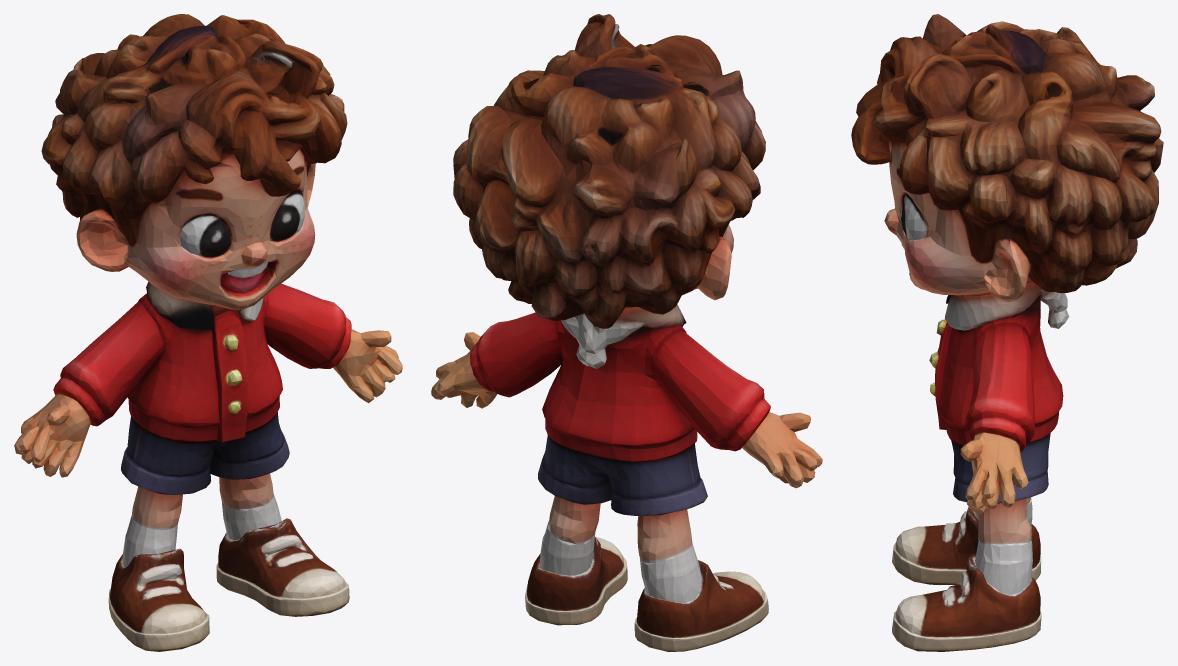
The model's file is yolcu-varyant-4.glb.
The picture shows the model from 3 angles, left to right: view 1: azimuth 30°, elevation 25°; view 2: azimuth 150°, elevation 25°; view 3: azimuth 270°, elevation 25°; orthographic projection.
Parts seen in each view (by area): view 1: world; view 2: world; view 3: world.
Boxes of the visible parts, bbox=[...] form: world: bbox=[14, 14, 402, 651]; world: bbox=[431, 14, 822, 651]; world: bbox=[851, 14, 1163, 651].
Size of the model in its own units: 0.6974 by 0.9989 by 0.4966.
Materials: 1 (1 with a texture image).
